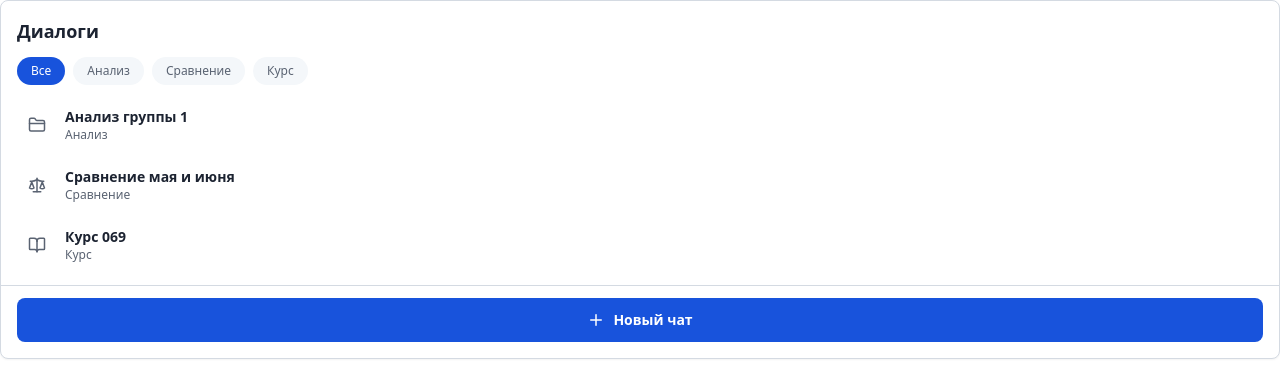
ThreadSidebar › filter chip 'Сравнение' shows only Сравнение threads
Click the button "Сравнение": (198, 71) x1=152 y1=57 x2=245 y2=85
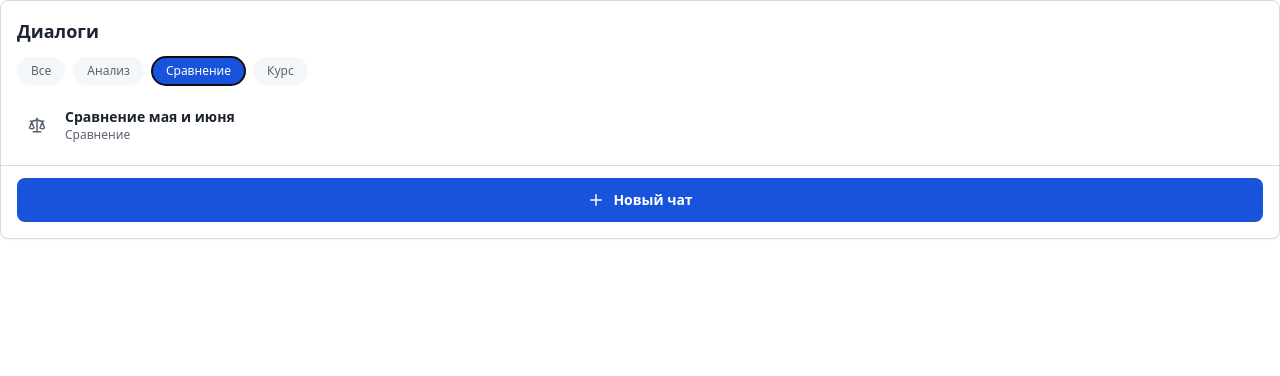
Expected: the text "Сравнение мая и июня" is shown, x1=65 y1=107 x2=235 y2=127
Now the text "Анализ группы 1" is gone
Now the text "Курс 069" is gone
